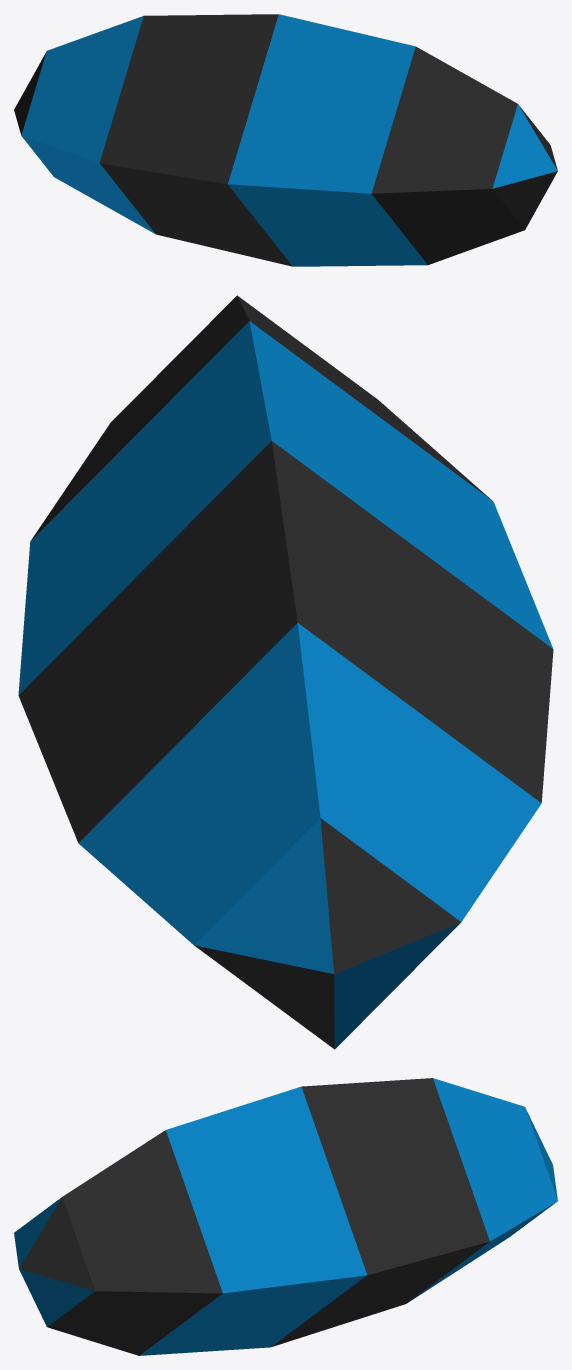
The model's file is Nature_FrogPellet_Blue.fbx.
3 views of the same model, one above another, from view 1: azimuth 30°, elevation 25°; view 2: azimuth 150°, elevation 25°; view 3: azimuth 270°, elevation 25° (orthographic). The views are drawn at different scales.
Visible parts, largest first — view 1: pSphere86; view 2: pSphere86; view 3: pSphere86.
Part boxes in pixels (bbox=[...]): pSphere86: bbox=[14, 14, 557, 266]; pSphere86: bbox=[18, 295, 553, 1049]; pSphere86: bbox=[14, 1078, 557, 1355].
Size of the model in its own units: 23.48 by 15.42 by 29.14.
